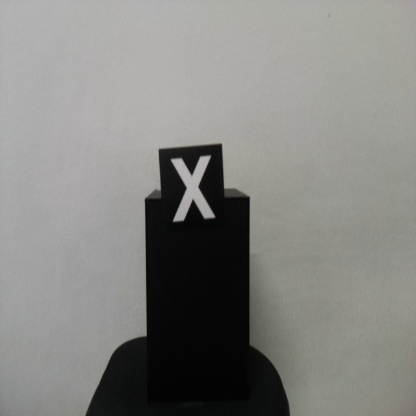id_13: (158, 146, 225, 235)
